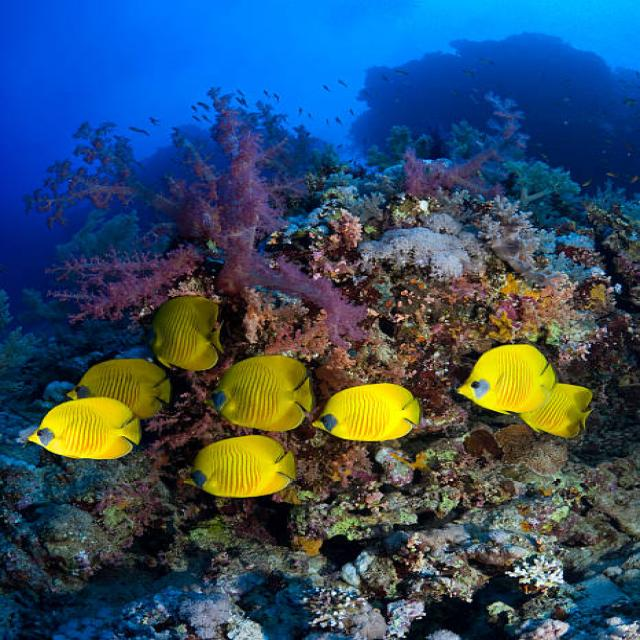ButterflyFish: (213, 353, 320, 434), (136, 291, 232, 372), (180, 435, 298, 500), (451, 342, 556, 415), (22, 398, 144, 460), (63, 359, 179, 420), (312, 383, 422, 442), (528, 379, 598, 437)
